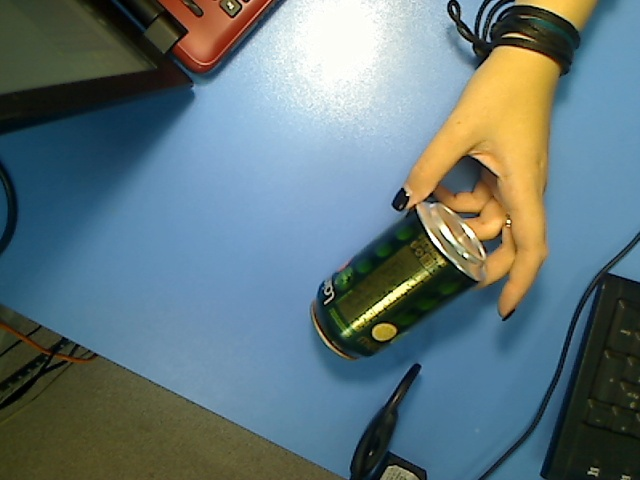can: (307, 200, 492, 364)
